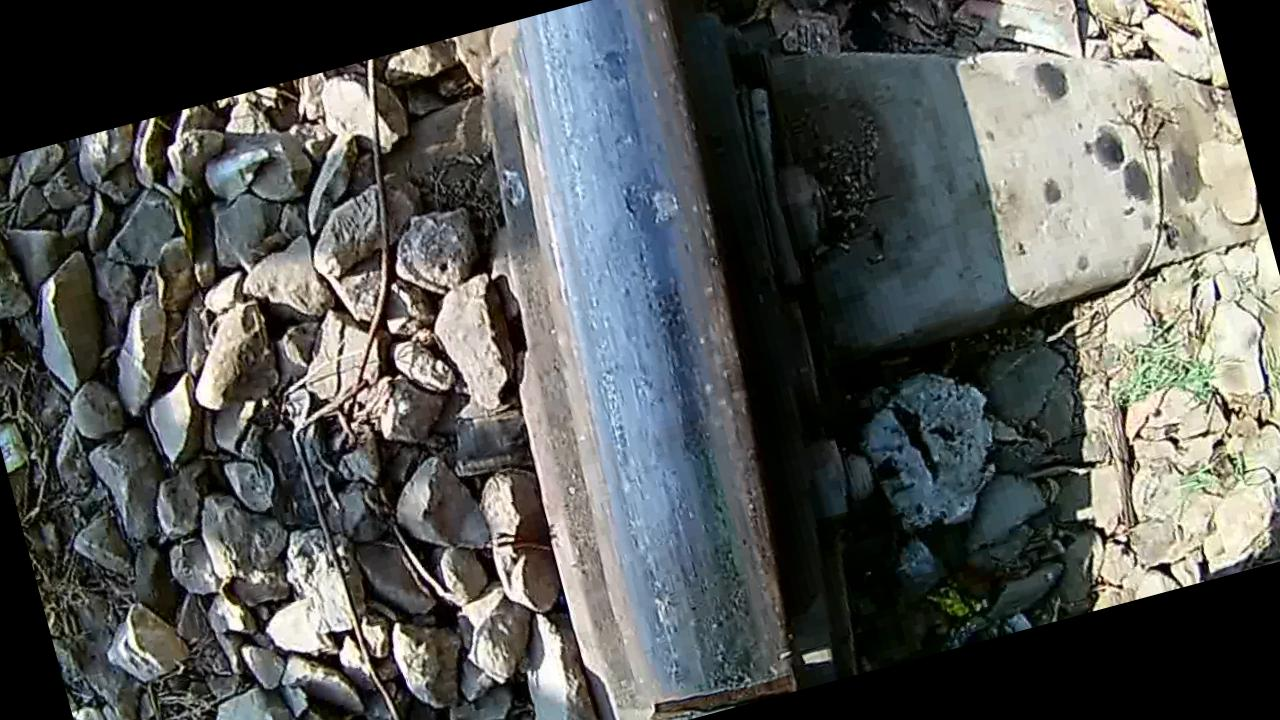crack: (483, 0, 830, 696)
